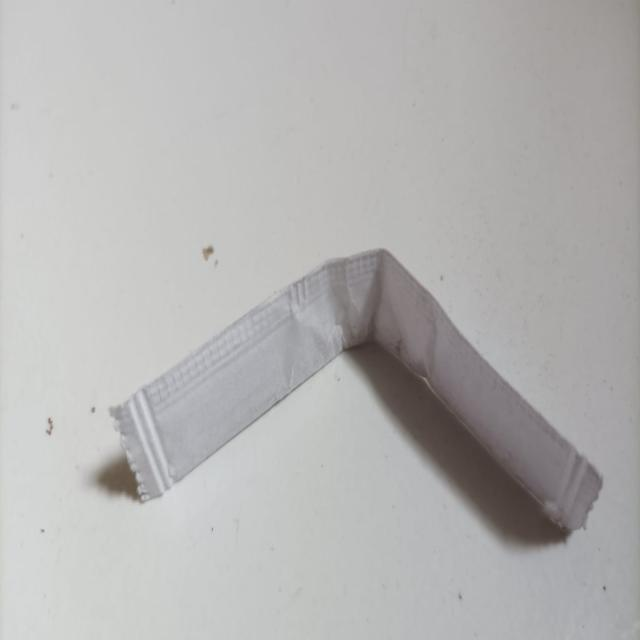Organik: (114, 254, 604, 526)
